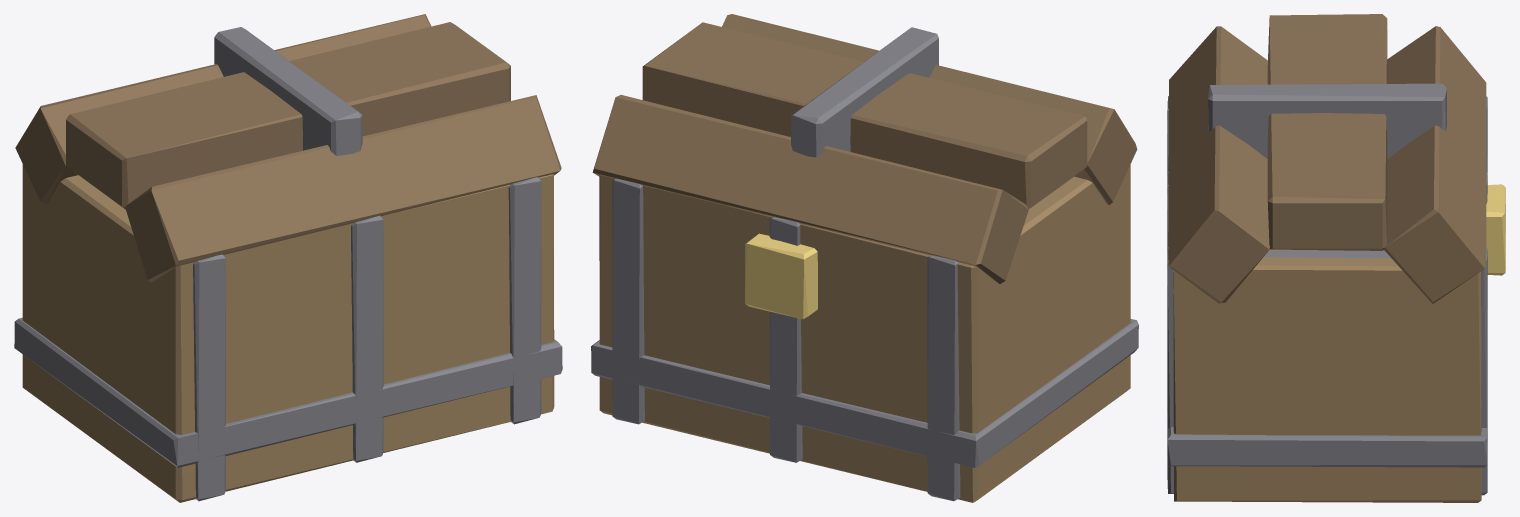
Rendered from dgn_chest_closed.glb.
3 views of the same model, side by side, from view 1: azimuth 30°, elevation 25°; view 2: azimuth 150°, elevation 25°; view 3: azimuth 270°, elevation 25° (orthographic).
Visible parts, largest first — view 1: dgn_chest_closed; view 2: dgn_chest_closed; view 3: dgn_chest_closed.
Part boxes in pixels (x1,y1,x2,y2): dgn_chest_closed: [14, 14, 562, 502]; dgn_chest_closed: [591, 14, 1138, 502]; dgn_chest_closed: [1167, 14, 1505, 502].
Bounding box in the file's own units: 0.74 × 0.6 × 0.5657.
